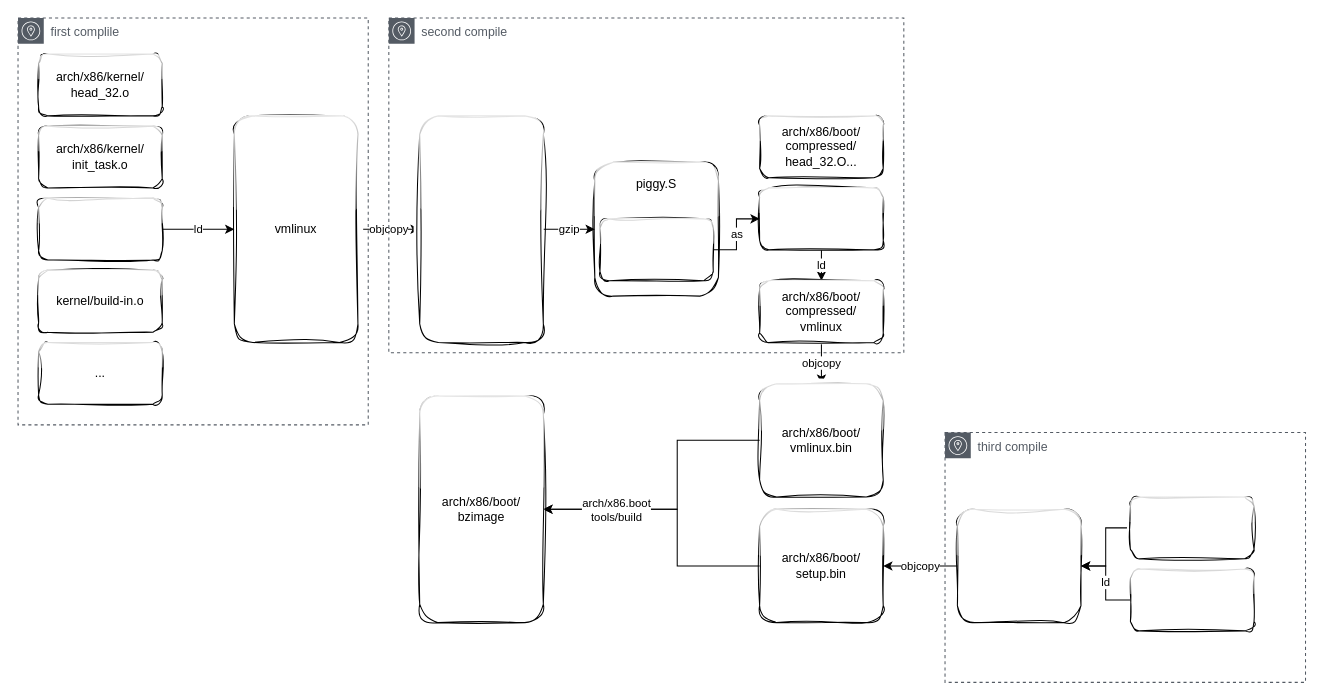
Image size: 1324x700. Some labels were removed from this diagram. Here are the shapes that lost their labels. From the top down, the box of each, then its label:
(38, 197, 162, 260): init/built-in.o
(419, 115, 543, 342): arch/x86/boot/ compressed/ vmlinux.bin
(759, 187, 883, 250): arch/x86/boot/ compressed/ piggy.O
(599, 218, 713, 281): vmlinux.bin.gz
(1129, 496, 1254, 559): arch/x86/boot/ a20.0
(956, 508, 1081, 623): arch/x86/boot/ setup.elf
(1129, 568, 1254, 631): arch/x86/boot/ ...
